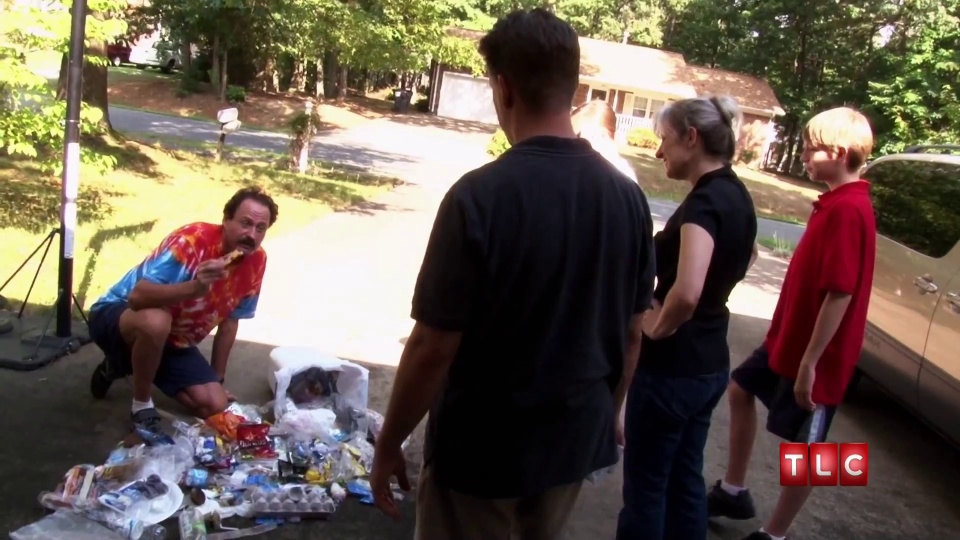person: (374, 11, 654, 540), (722, 98, 881, 497), (625, 87, 756, 536), (82, 182, 284, 445)
